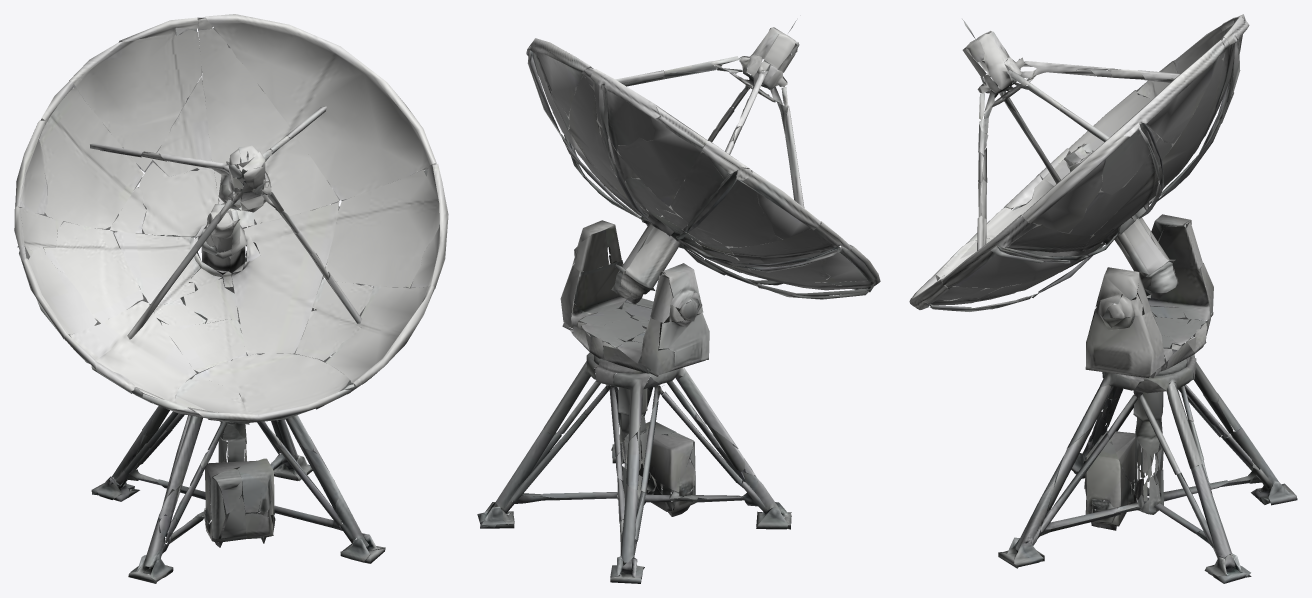
The model's file is mars_radar_dish.glb.
3 views of the same model, side by side, from view 1: azimuth 30°, elevation 25°; view 2: azimuth 150°, elevation 25°; view 3: azimuth 270°, elevation 25° (orthographic). The views are drawn at different scales.
Parts seen in each view (by area): view 1: mars_radar_dish; view 2: mars_radar_dish; view 3: mars_radar_dish.
Part boxes in pixels (<box>): mars_radar_dish: <box>14,14,448,583</box>; mars_radar_dish: <box>477,20,880,583</box>; mars_radar_dish: <box>909,14,1297,583</box>.
Size of the model in its own units: 8.65 by 11 by 7.88.
Materials: 1 (1 with a texture image).
